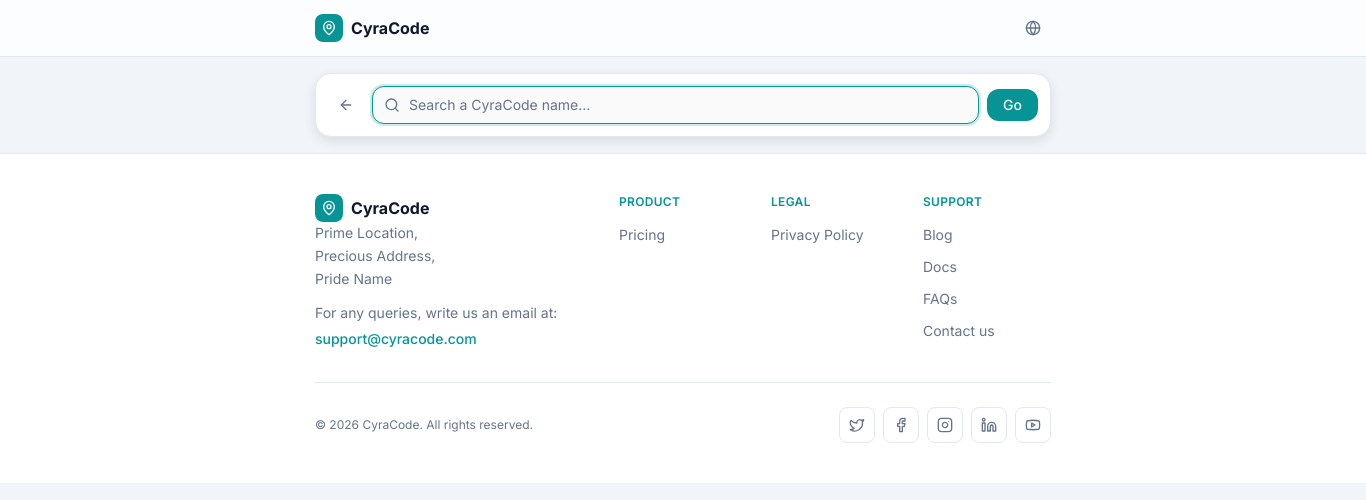
Test: SearchPage — autocomplete › shows autocomplete suggestions while typing
Type "Test" into the field with placeholder "Search a CyraCode name…". click: (676, 105)
box: [372,86,979,124]
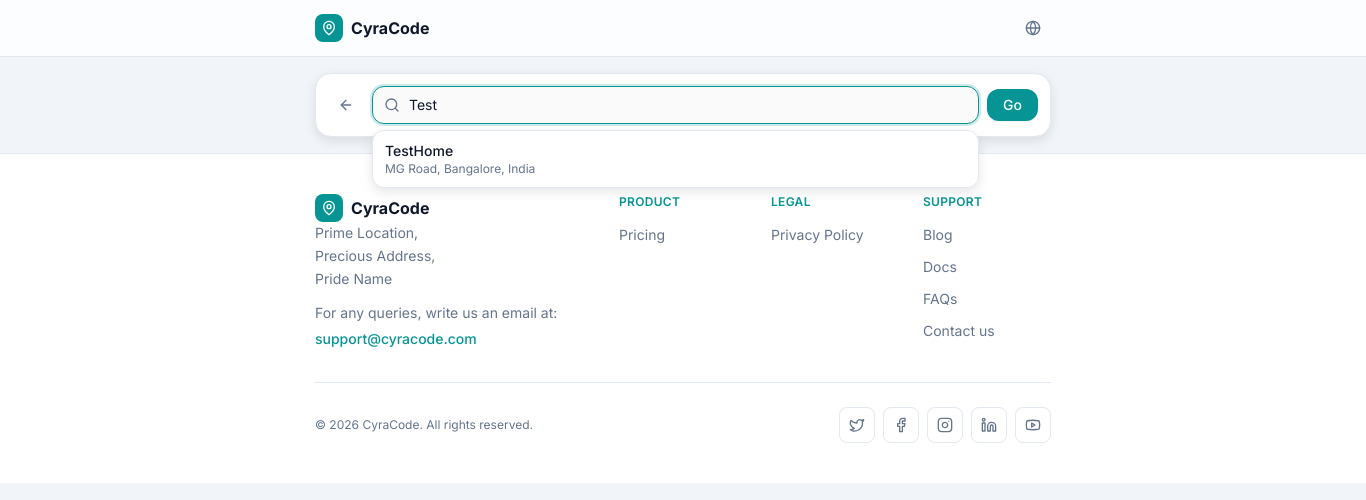
Check: the text "TestHome" is shown, box [385,141,453,161]
